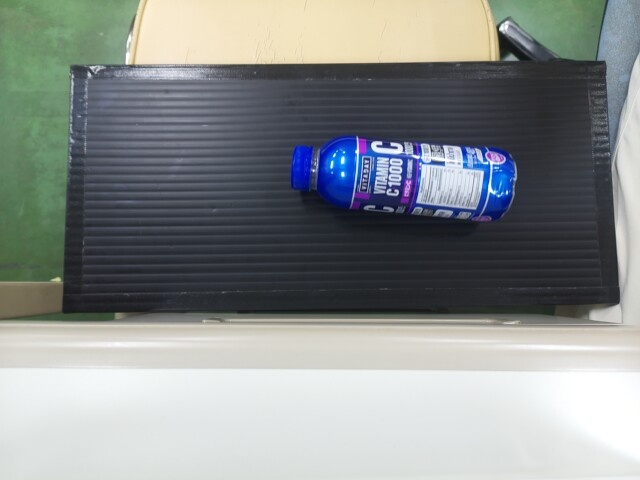plastic_bottle: (289, 130, 516, 226)
